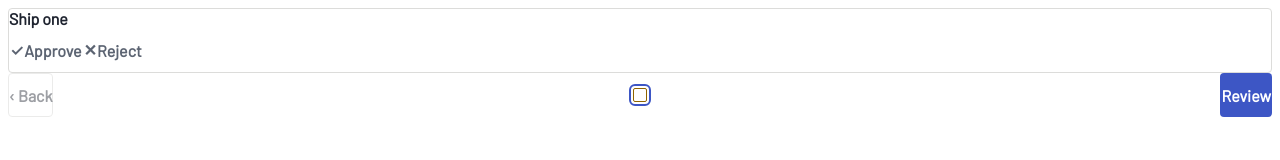
FocusDeck navigation › lands on the review summary past the last step
Click the button "Review": [1246, 95] box [1220,73,1272,117]
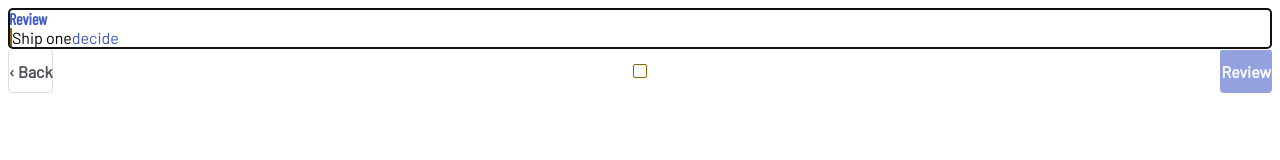
Expected: the text with class "focus-receipt-title" reads "Ship one", [12,28,72,47]
Expected: the element with class "focus-card" is gone
Expected: the text with class "focus-summary-head" reads "Review", [9,9,47,28]
